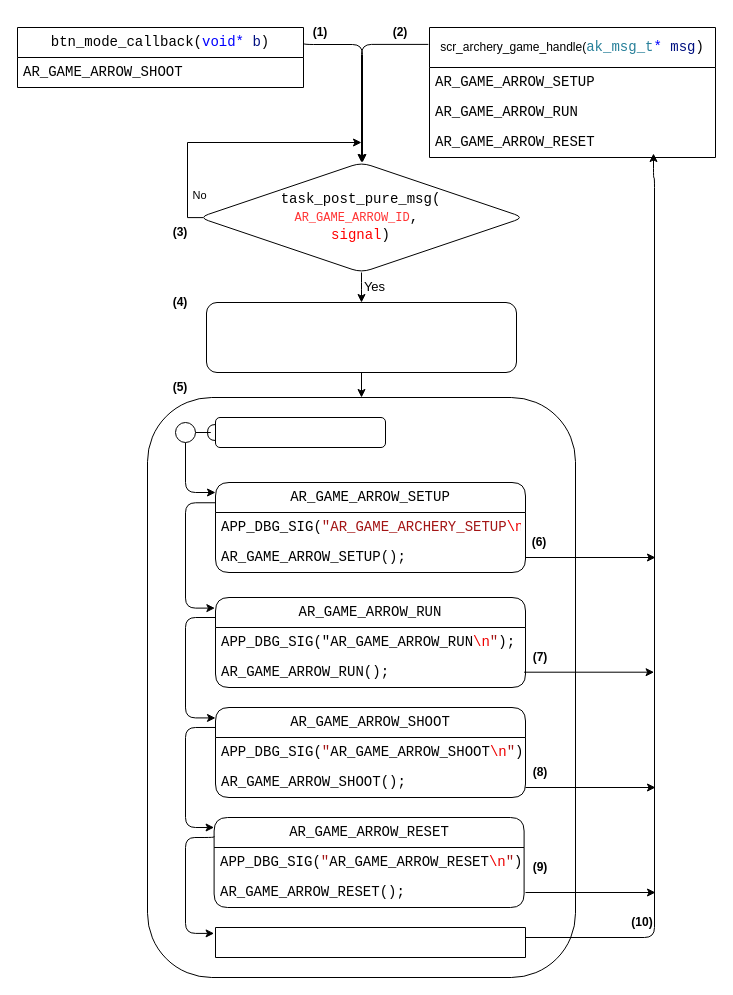
Some shapes in this 733 by 995 pixel diagram are drawn without their labels. Each missing label, with the centre of its shape:
"ar_game_arrow_handle( ak_msg_t * msg )" belongs at (361,337).
"default" belongs at (370,942).
"switch ( msg -> signal )" belongs at (300,432).
